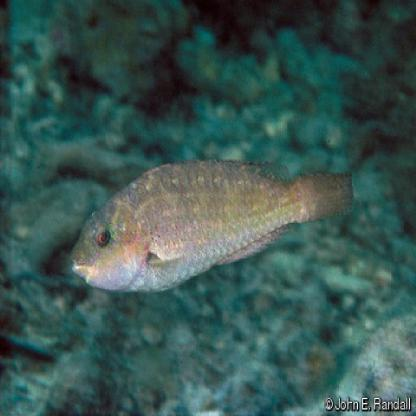Bio: (58, 143, 360, 300)
